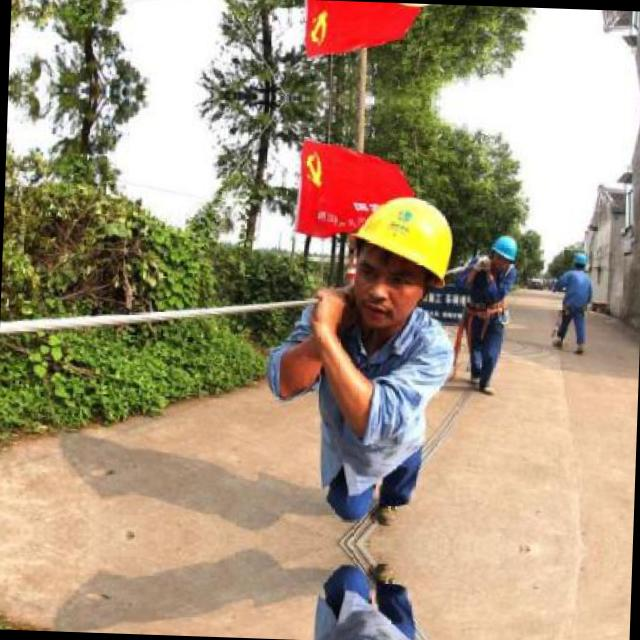helmet: (329, 174, 467, 336), (484, 229, 518, 270), (568, 246, 590, 270)
